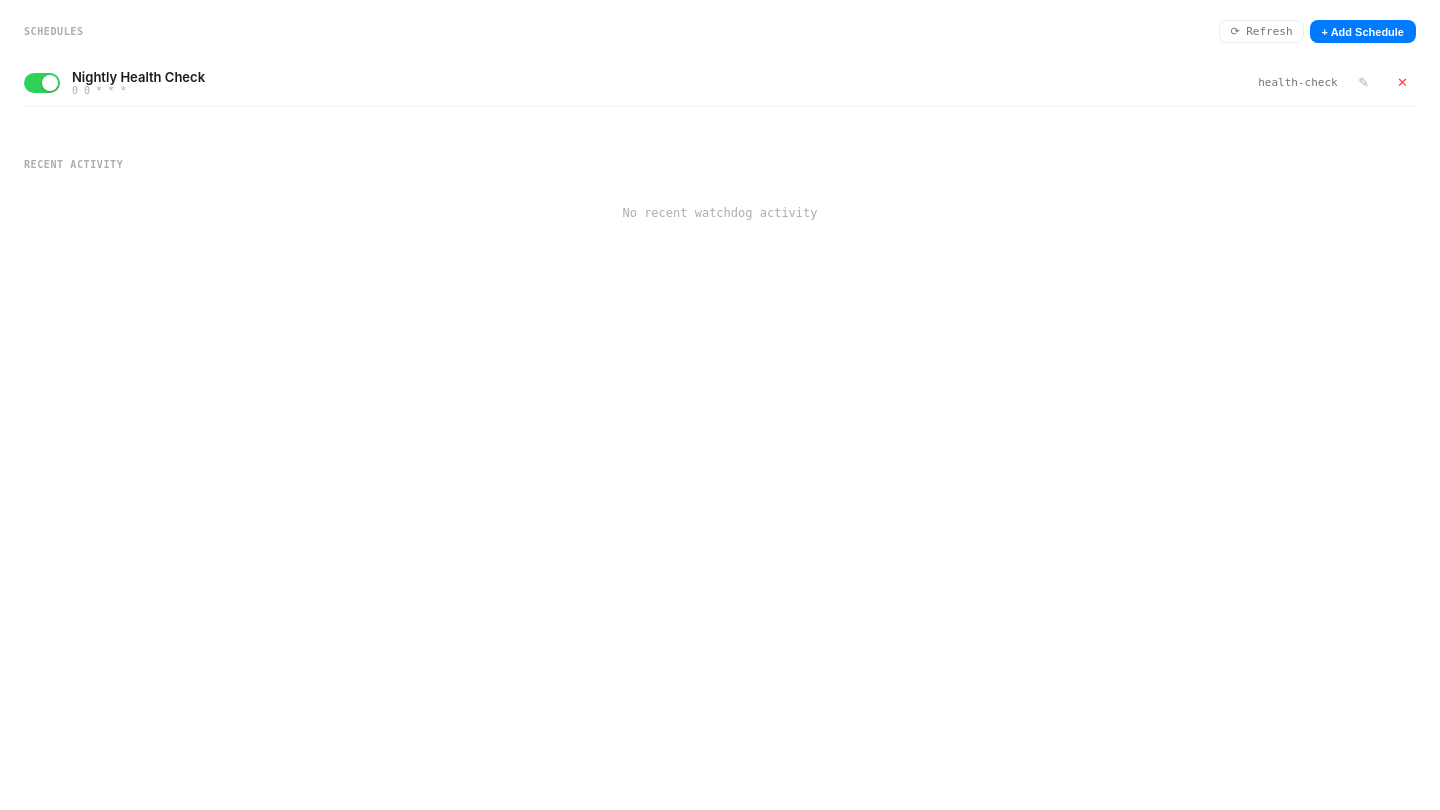
Scenario: WatchDogPage › shows delete confirmation dialog
What coordinates should you click on to do the following:
click the button with test id "schedule-delete-s1"
I would click on:
 (1403, 82)
Its box is top-left (1389, 71), bottom-right (1416, 94).
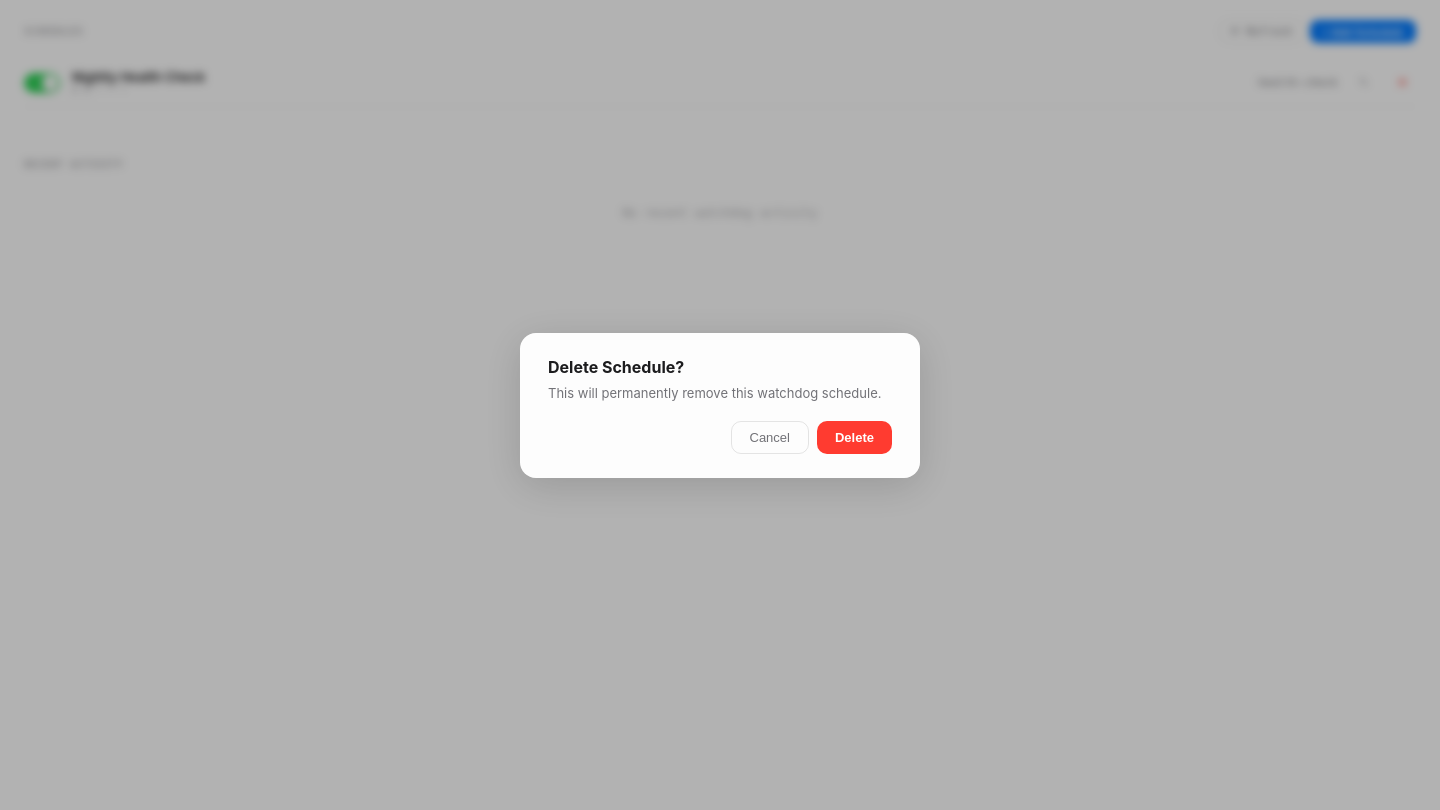
Expected: the element with test id "delete-dialog" is shown, top-left (520, 332), bottom-right (920, 478)
